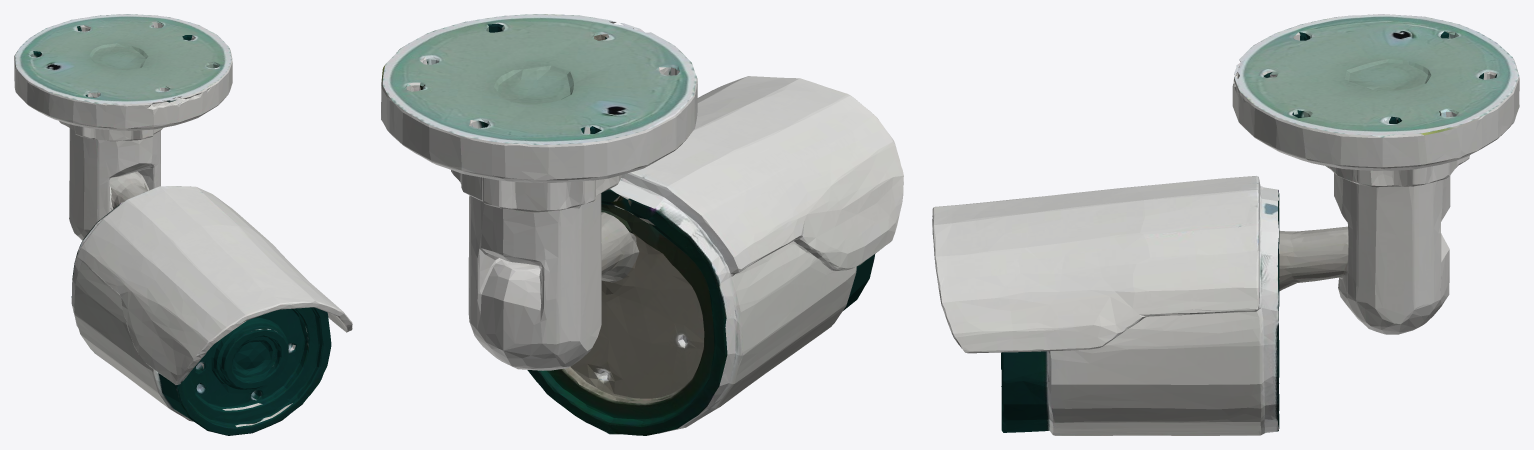
File: cctv.glb
The picture shows the model from 3 angles, left to right: view 1: azimuth 30°, elevation 25°; view 2: azimuth 150°, elevation 25°; view 3: azimuth 270°, elevation 25°; orthographic projection. The views are drawn at different scales.
Parts seen in each view (by area): view 1: tmpvmwgkq46.ply; view 2: tmpvmwgkq46.ply; view 3: tmpvmwgkq46.ply.
Part boxes in pixels (x1=…): tmpvmwgkq46.ply: x1=14, y1=14, x2=352, y2=435; tmpvmwgkq46.ply: x1=381, y1=14, x2=903, y2=435; tmpvmwgkq46.ply: x1=932, y1=14, x2=1519, y2=435.
Bounding box in the file's own units: 0.1939 × 0.26 × 0.3849.
1 material, 1 textured.
